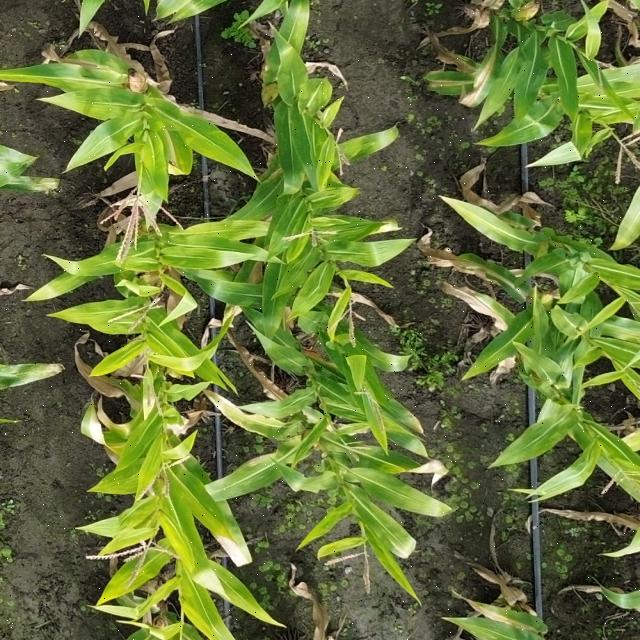northern-leaf-blight: (452, 592, 548, 620)
southern-leaf-blight: (460, 68, 492, 105)
